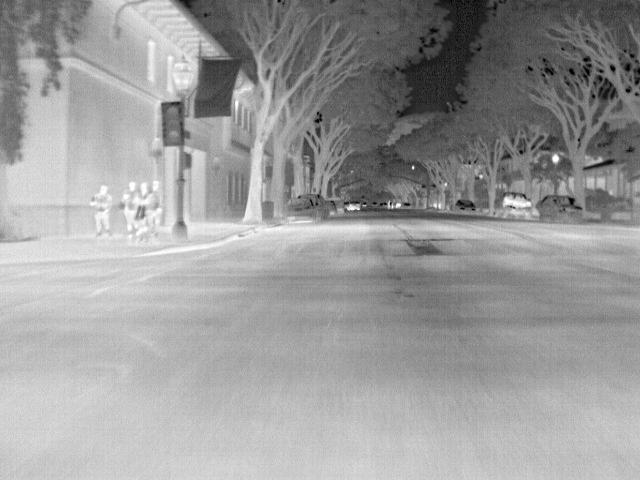car: (534, 195, 583, 224), (297, 191, 327, 221), (287, 199, 319, 223), (501, 193, 533, 212), (451, 198, 478, 214), (348, 199, 363, 212)
person: (88, 185, 111, 240), (120, 180, 140, 237), (138, 181, 154, 244), (150, 178, 163, 230)
